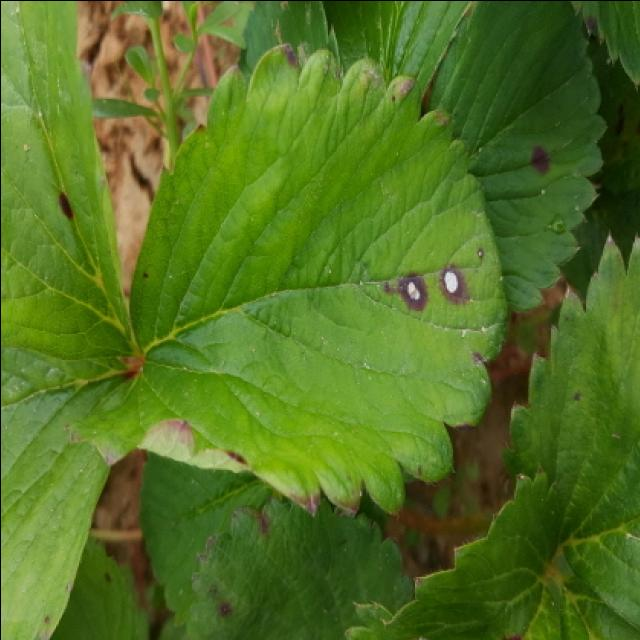Leaf Spot: (126, 43, 513, 518), (421, 2, 610, 311), (503, 227, 638, 629), (0, 2, 141, 360), (0, 345, 142, 640), (189, 494, 414, 640), (52, 537, 148, 640), (574, 2, 638, 89)
